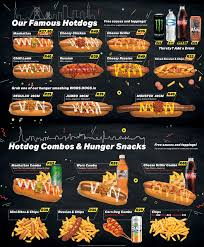not-coke: (125, 213, 145, 245)
